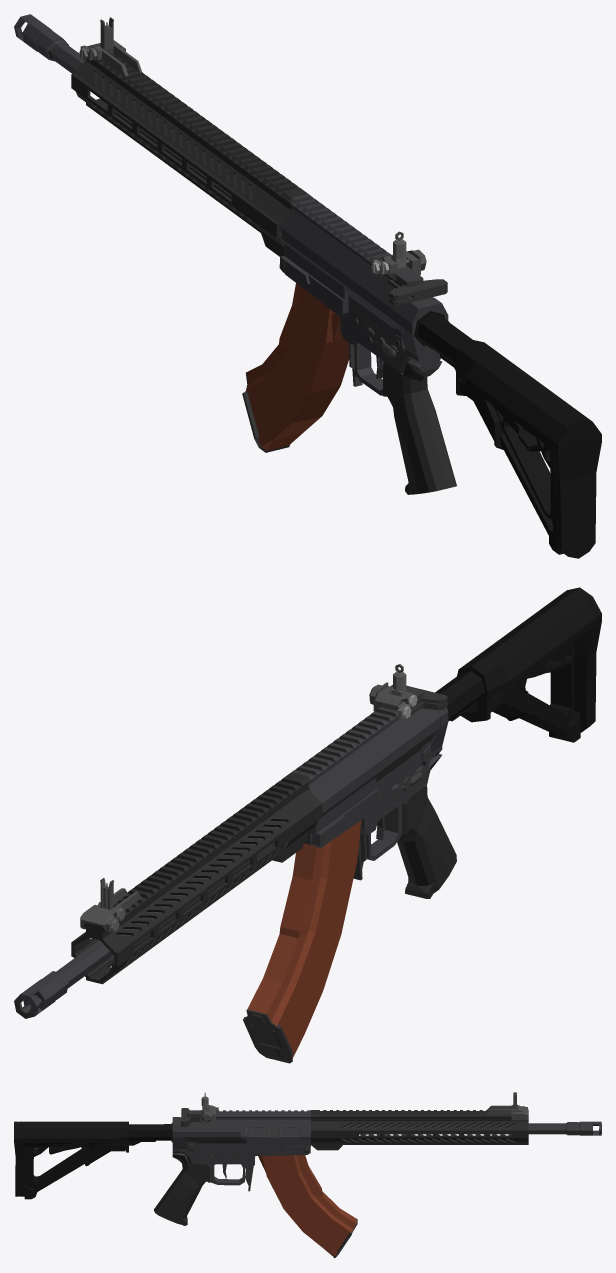
File: low-poly_mk-47_mutant.glb
3 views of the same model, one above another, from view 1: azimuth 30°, elevation 25°; view 2: azimuth 150°, elevation 25°; view 3: azimuth 270°, elevation 25° (orthographic). The views are drawn at different scales.
Parts seen in each view (by area): view 1: upper_MK47_4, stock_AR15_magpul_6, Mag_762_polymer_11, sights_10, charging_handle.001_7; view 2: upper_MK47_4, Mag_762_polymer_11, stock_AR15_magpul_6, sights_10; view 3: upper_MK47_4, stock_AR15_magpul_6, Mag_762_polymer_11, dustcover_1, sights_10.
Part boxes in pixels (x1,y1,x2,y2): upper_MK47_4: [14, 14, 472, 494]; stock_AR15_magpul_6: [455, 339, 601, 558]; Mag_762_polymer_11: [242, 283, 349, 452]; sights_10: [79, 40, 426, 275]; charging_handle.001_7: [387, 279, 447, 305]; upper_MK47_4: [14, 671, 484, 1018]; Mag_762_polymer_11: [243, 820, 361, 1063]; stock_AR15_magpul_6: [457, 587, 601, 742]; sights_10: [80, 682, 417, 932]; upper_MK47_4: [129, 1110, 601, 1225]; stock_AR15_magpul_6: [14, 1121, 128, 1199]; Mag_762_polymer_11: [258, 1135, 357, 1258]; dustcover_1: [246, 1125, 300, 1138]; sights_10: [200, 1104, 528, 1122].
Size of the model in its own units: 0.0511 by 0.2761 by 0.9037.
